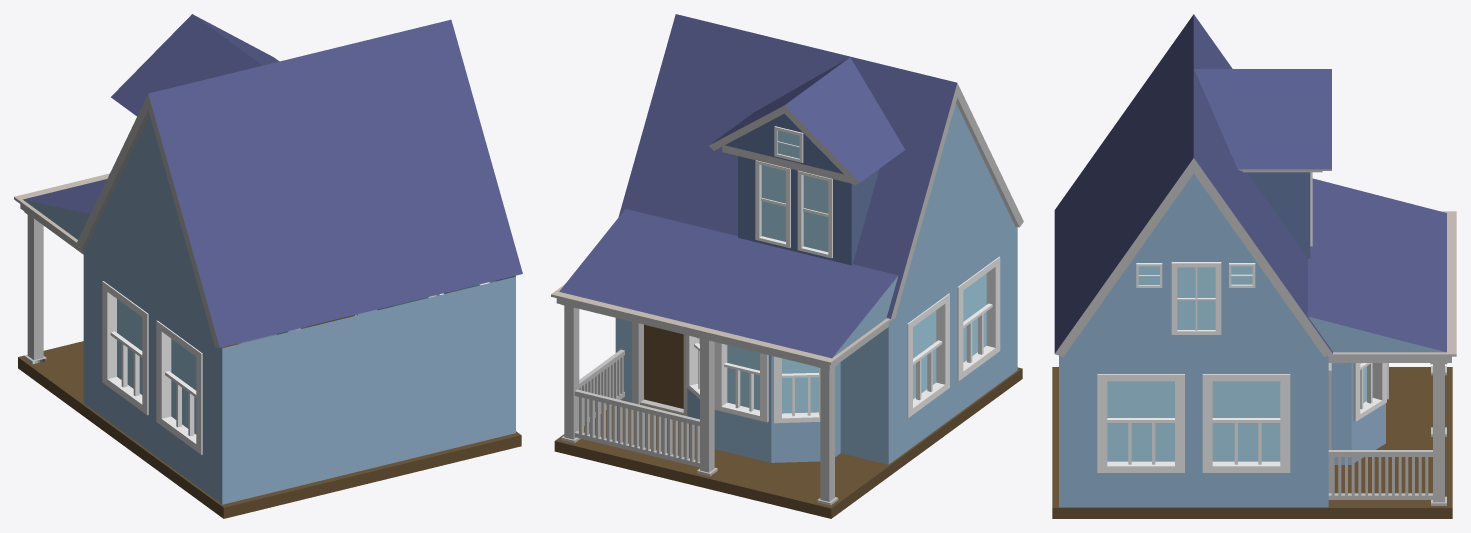
File: house5.glb
3 views of the same model, side by side, from view 1: azimuth 30°, elevation 25°; view 2: azimuth 150°, elevation 25°; view 3: azimuth 270°, elevation 25° (orthographic). The views are drawn at different scales.
Visible parts, largest first — view 1: building.038; view 2: building.038; view 3: building.038.
Part boxes in pixels (<box>): building.038: <box>14,14,522,518</box>; building.038: <box>551,14,1023,518</box>; building.038: <box>1052,14,1456,518</box>.
Size of the model in its own units: 5.68 by 6.67 by 6.75.
1 material, 1 textured.
